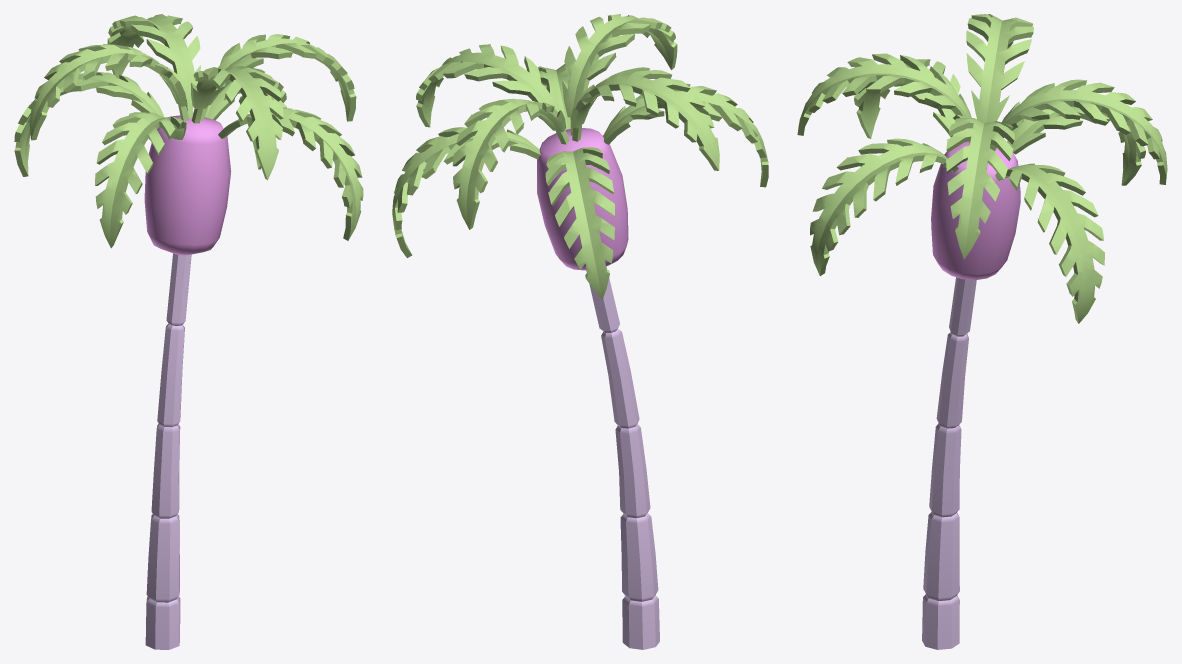
File: palm3.fbx
The picture shows the model from 3 angles, left to right: view 1: azimuth 30°, elevation 25°; view 2: azimuth 150°, elevation 25°; view 3: azimuth 270°, elevation 25°; orthographic projection. The views are drawn at different scales.
Visible parts, largest first — view 1: palm3; view 2: palm3; view 3: palm3.
Boxes of the visible parts, box(x1,y1,x2,y2) form: palm3: box(14, 14, 363, 649); palm3: box(392, 14, 768, 649); palm3: box(797, 14, 1167, 649).
Size of the model in its own units: 4.75 by 8.58 by 4.76.
